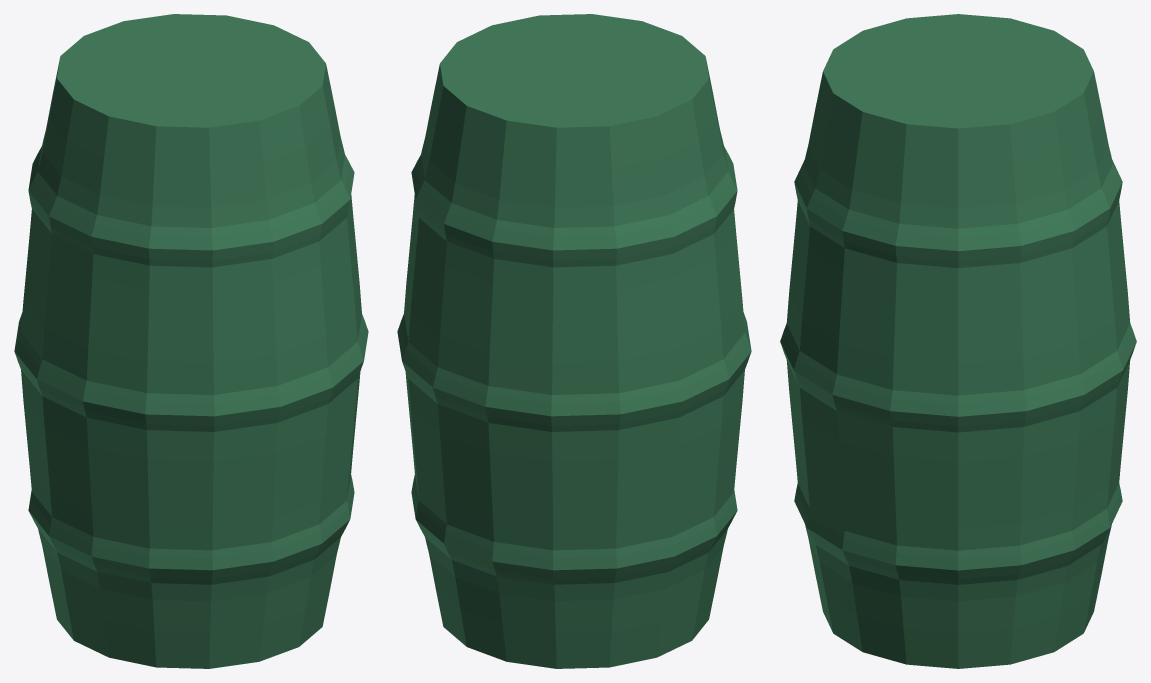
The model's file is barrel.glb.
3 renders of one model, left to right at view 1: azimuth 30°, elevation 25°; view 2: azimuth 150°, elevation 25°; view 3: azimuth 270°, elevation 25°, orthographic.
Visible parts, largest first — view 1: barrel; view 2: barrel; view 3: barrel.
Boxes of the visible parts, x1,y1,x2,y2 form: barrel: (14,14,368,668); barrel: (397,14,751,668); barrel: (780,14,1136,668).
Size of the model in its own units: 1.32 by 2.2 by 1.32.
